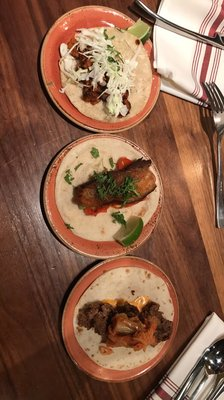burger: (170, 337, 223, 400)
salad: (128, 0, 224, 50), (171, 337, 224, 400)
sushi: (39, 6, 161, 132), (59, 257, 179, 382), (43, 135, 163, 259)
